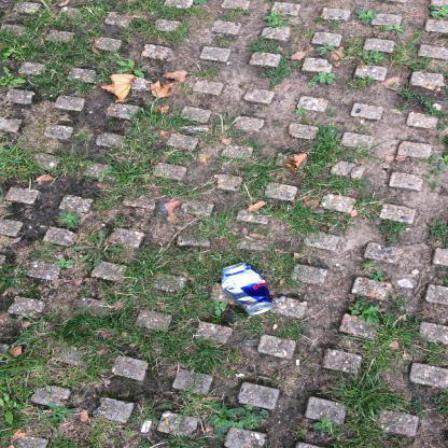Can: (222, 263, 275, 315)
Cigarette: (297, 361, 301, 367)
